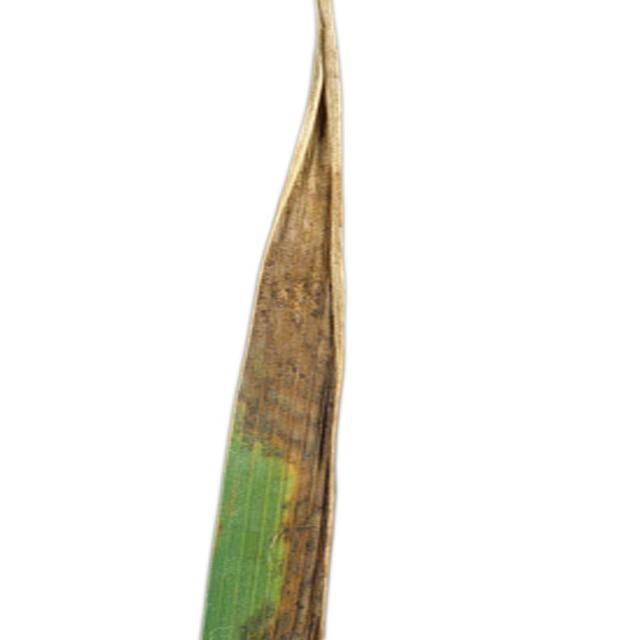Leaf scald: (162, 0, 425, 640)
